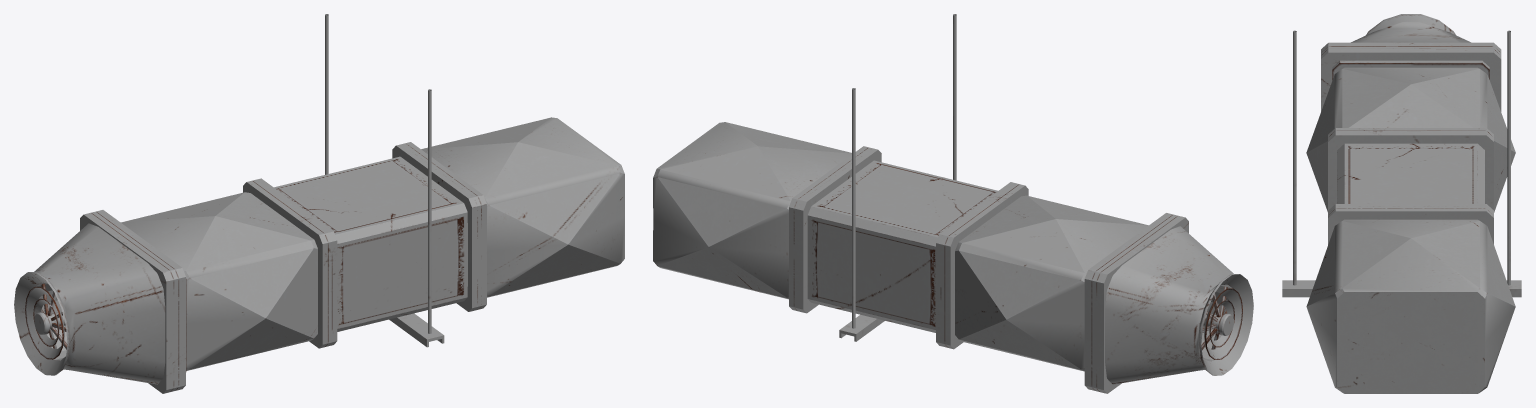
File: Prop_Air_Ducts_x2.fbx
3 renders of one model, left to right at view 1: azimuth 30°, elevation 25°; view 2: azimuth 150°, elevation 25°; view 3: azimuth 270°, elevation 25°, orthographic. The views are drawn at different scales.
Visible parts, largest first — view 1: Prop_Air_Ducts_x2; view 2: Prop_Air_Ducts_x2; view 3: Prop_Air_Ducts_x2.
Boxes of the visible parts, x1,y1,x2,y2 form: Prop_Air_Ducts_x2: [14, 14, 624, 393]; Prop_Air_Ducts_x2: [653, 14, 1253, 393]; Prop_Air_Ducts_x2: [1282, 14, 1521, 393].
Bounding box in the file's own units: 128 × 57.58 × 46.19.
